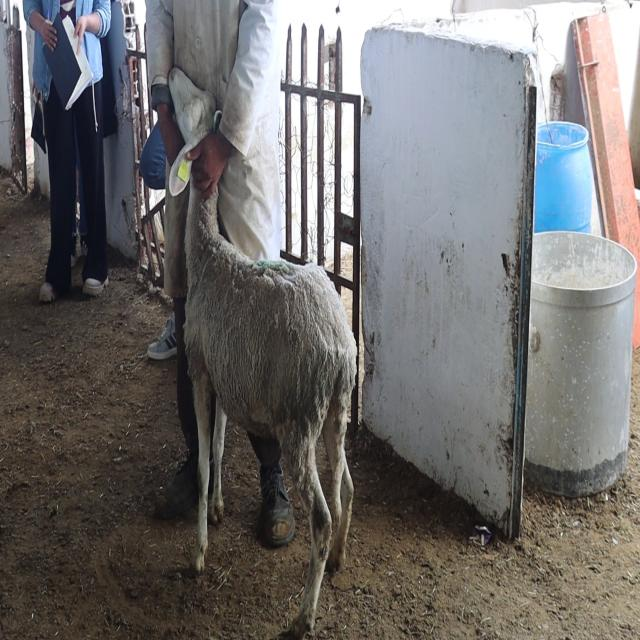Score_1: (167, 68, 357, 638)
